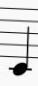note: (6, 6, 33, 78)
